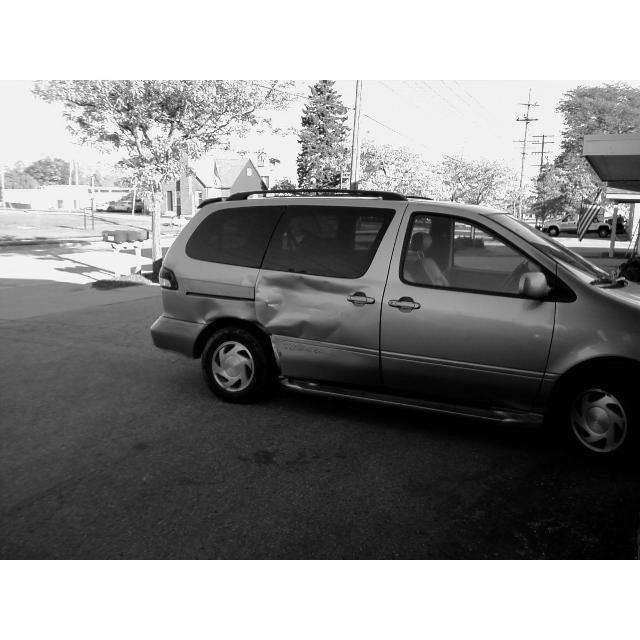doorouter-dent: (253, 281, 364, 376)
quaterpanel-dent: (164, 281, 244, 336)
